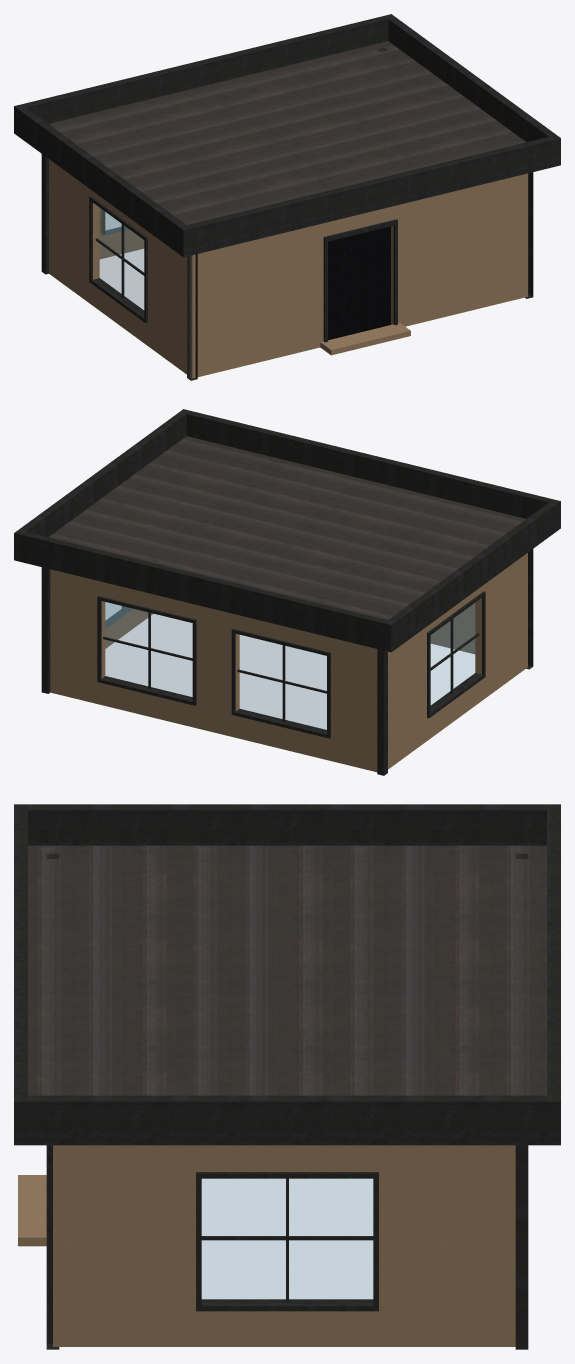
Rendered from cafe_01.glb.
The picture shows the model from 3 angles, top to bottom: view 1: azimuth 30°, elevation 25°; view 2: azimuth 150°, elevation 25°; view 3: azimuth 270°, elevation 25°; orthographic projection. The views are drawn at different scales.
Parts seen in each view (by area): view 1: cafe_01; view 2: cafe_01; view 3: cafe_01.
Boxes of the visible parts, x1,y1,x2,y2 form: cafe_01: (14,14,560,380); cafe_01: (14,409,560,775); cafe_01: (14,804,560,1349).
Size of the model in its own units: 9 by 3.7 by 7.
5 materials, 4 textured.
